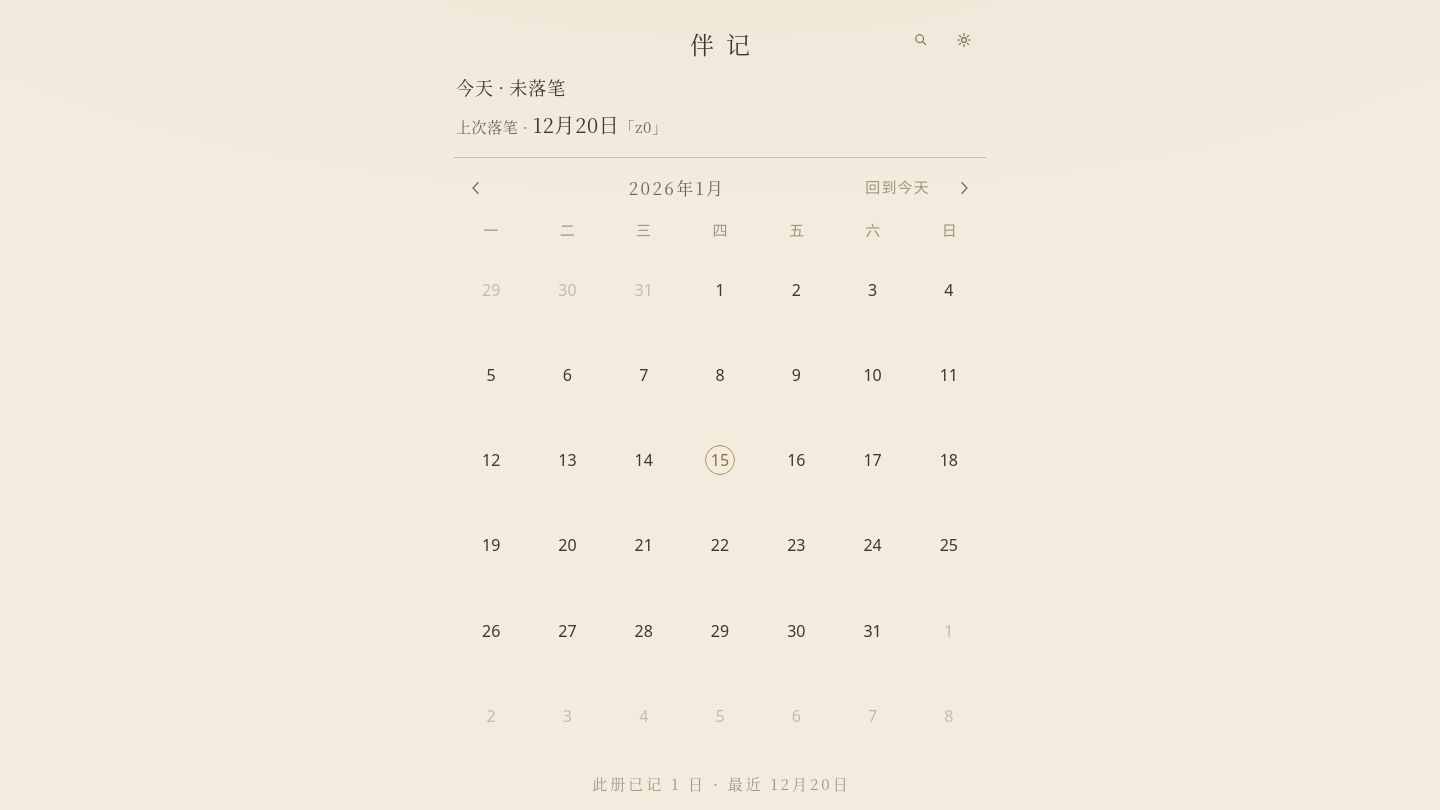
Test case: 首页 V2-Iter2 › 月题点开「翻到」：有纸月份挂墨点，跨年走门→导航成立、纸片合上
Click the button "2026年1月" at {"x": 677, "y": 188}, box [518, 166, 836, 210]
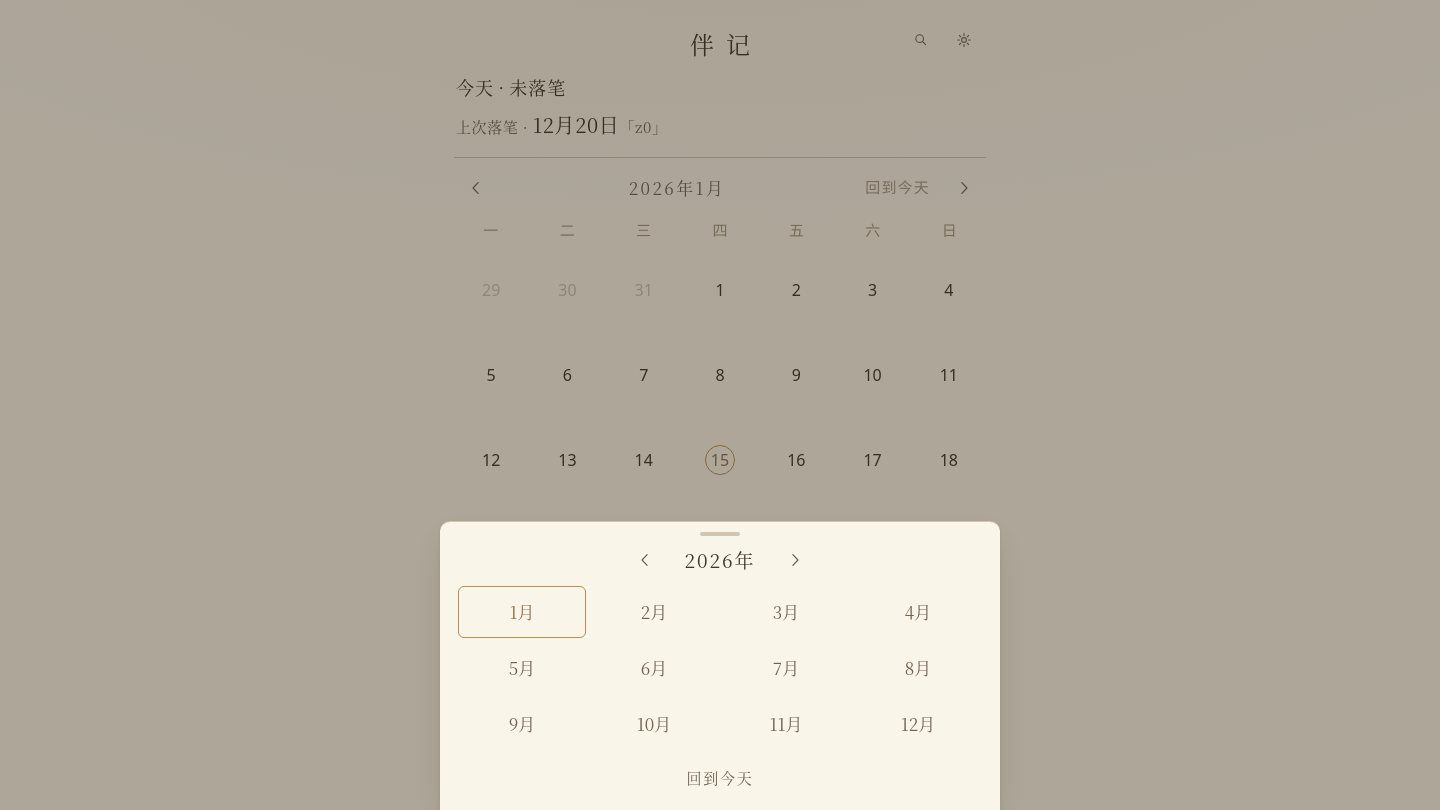
Now the button "1月" is shown, box [458, 586, 586, 638]
Click the button named "上一年" at {"x": 644, "y": 560}, box [622, 538, 666, 582]
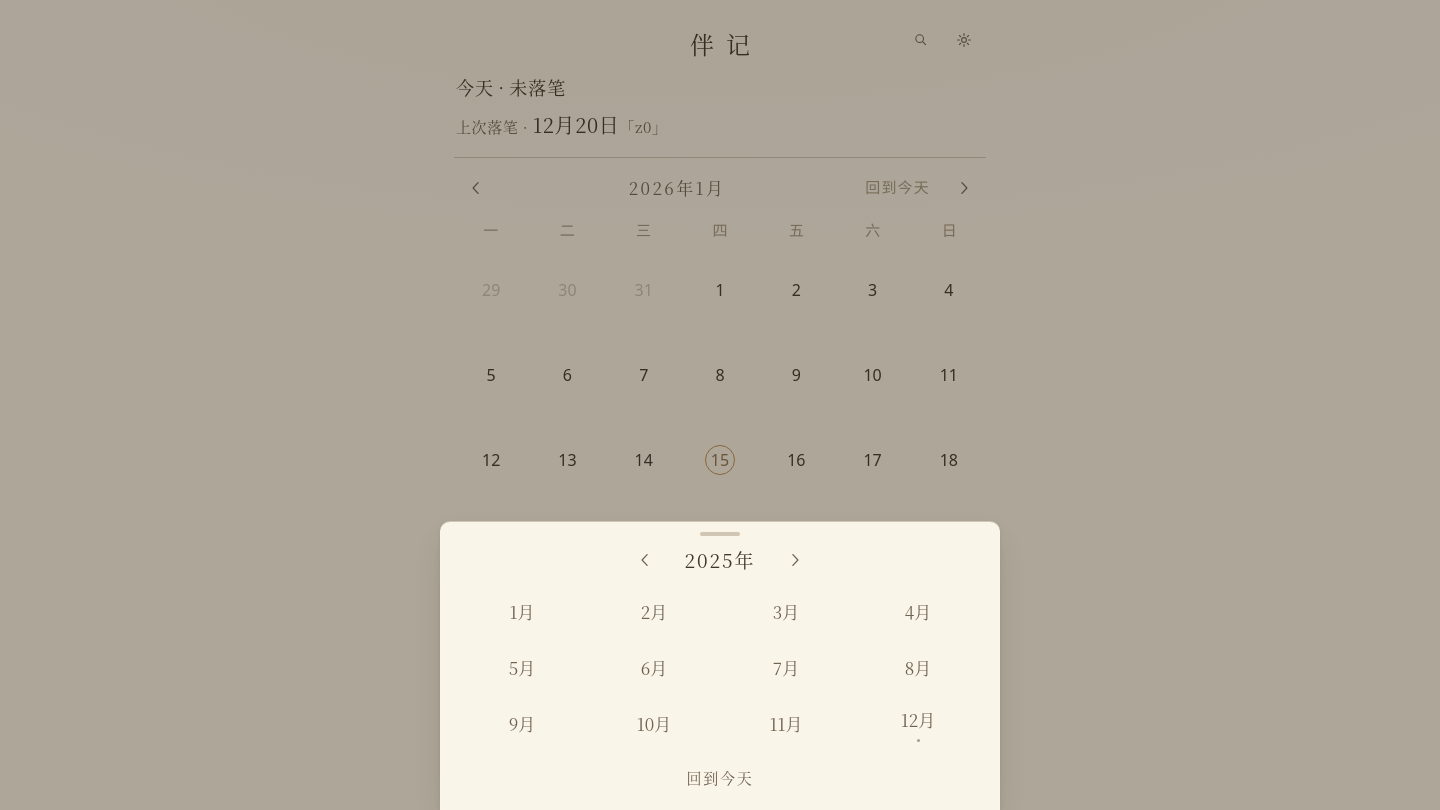
Expected: the icon with class "bj-jump-dot" is shown, [916, 738, 920, 742]
Now the dialog named "翻到" shows "2025年", box [440, 521, 1000, 809]
Click the button "12月" at {"x": 918, "y": 724}, box [854, 698, 982, 750]
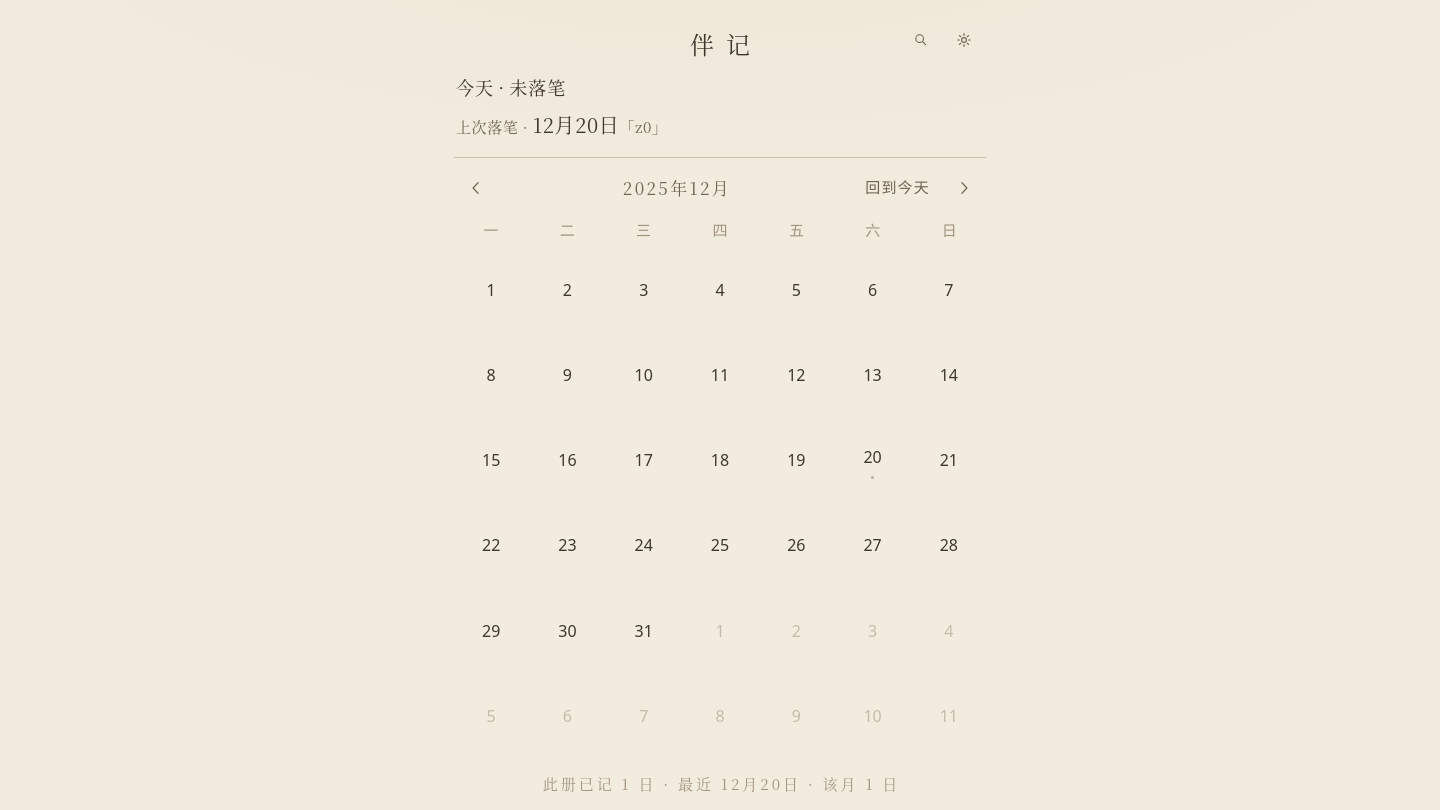
Now the button "2025年12月" is shown, box [518, 166, 836, 210]
